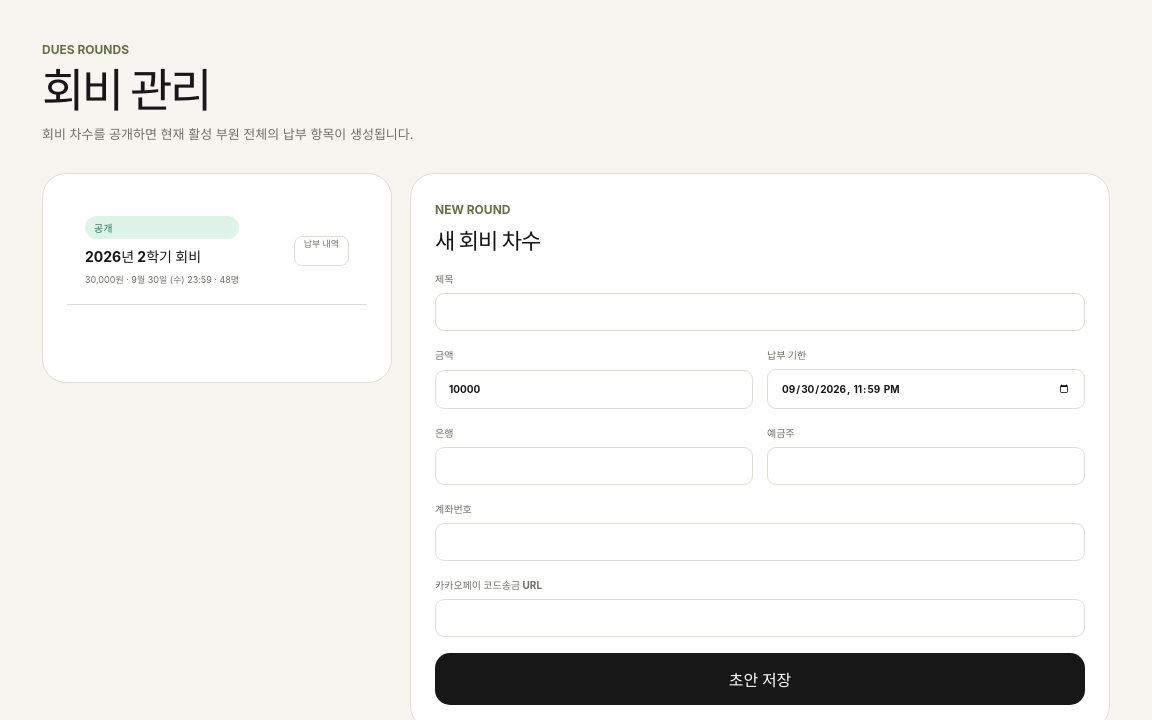
Test: AdminDuesRoundsPage › 회비 차수 초안을 생성한다
This screenshot has width=1152, height=720.
Expected: the heading "회비 관리" is shown, [42, 62, 210, 118]
Type "겨울 회비" into the field labelled "제목" at (760, 312), box [435, 293, 1085, 331]
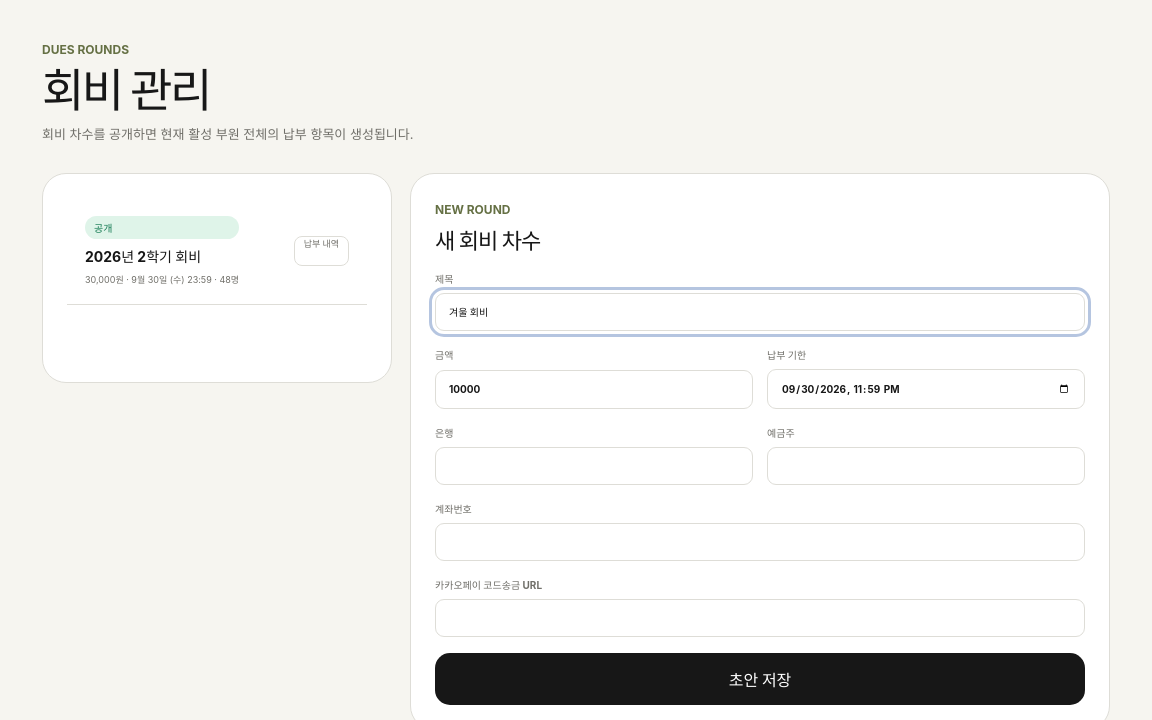
Click the button "초안 저장" at (760, 679), box [435, 653, 1085, 705]
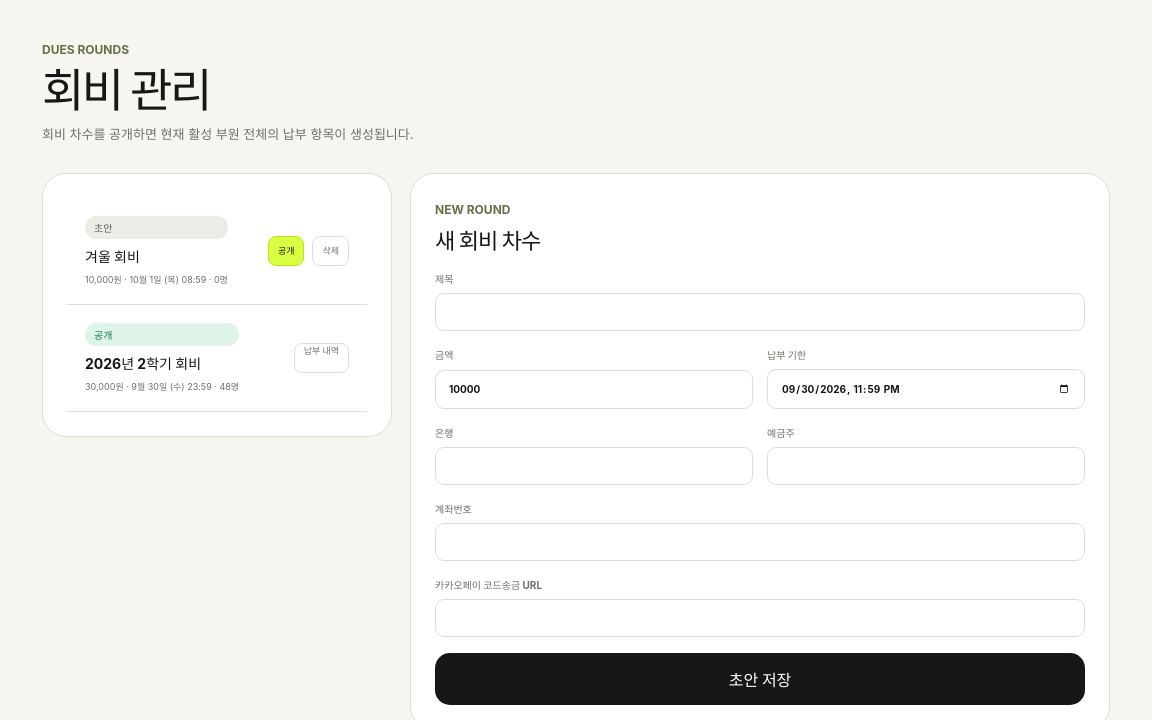
Result: the text "겨울 회비" is shown at [85, 248, 140, 265]
